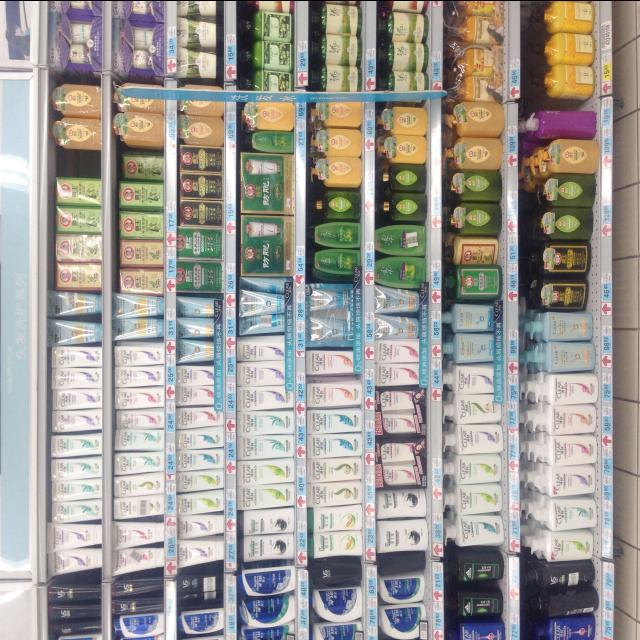empty_space: (56, 154, 96, 174)
